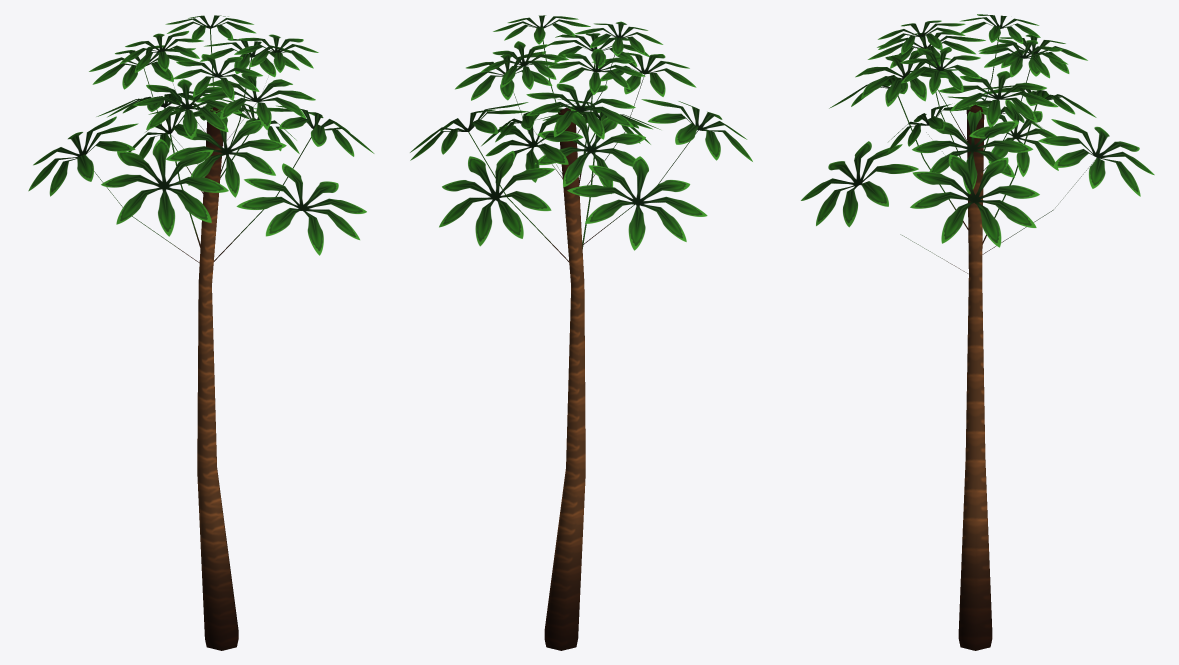
File: Tree6.glb
The picture shows the model from 3 angles, left to right: view 1: azimuth 30°, elevation 25°; view 2: azimuth 150°, elevation 25°; view 3: azimuth 270°, elevation 25°; orthographic projection.
Visible parts, largest first — view 1: Tree_13a; view 2: Tree_13a; view 3: Tree_13a.
Boxes of the visible parts, left/top/right/bottom form: Tree_13a: left=28, top=15, right=374, bottom=650; Tree_13a: left=410, top=15, right=752, bottom=650; Tree_13a: left=801, top=14, right=1154, bottom=650.
Bounding box in the file's own units: 68.04 × 125 × 69.58.
1 material, 1 textured.
